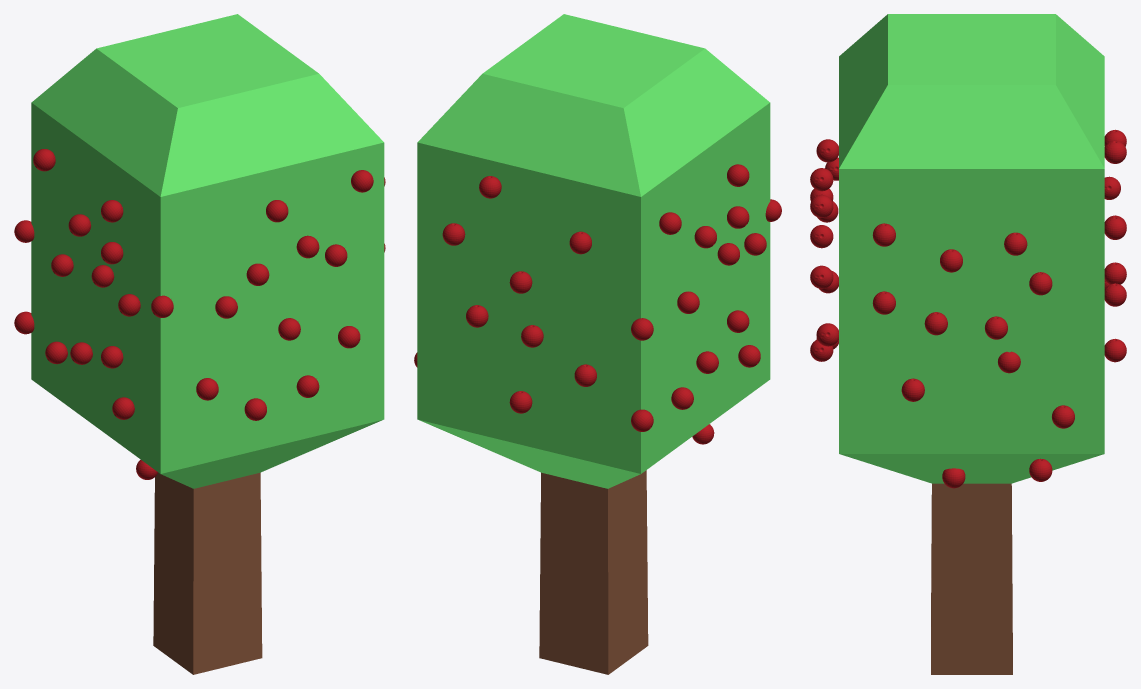
File: lowPolyTree2.fbx
3 renders of one model, left to right at view 1: azimuth 30°, elevation 25°; view 2: azimuth 150°, elevation 25°; view 3: azimuth 270°, elevation 25°, orthographic. The views are drawn at different scales.
Parts seen in each view (by area): view 1: Sphere.043; view 2: Sphere.043; view 3: Sphere.043.
Part boxes in pixels (x1=…): Sphere.043: x1=14, y1=14, x2=385, y2=674; Sphere.043: x1=414, y1=14, x2=781, y2=674; Sphere.043: x1=810, y1=14, x2=1126, y2=674.
Size of the model in its own units: 129 by 276 by 130.
